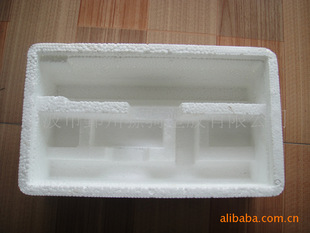Boxes: (18, 43, 283, 197)
